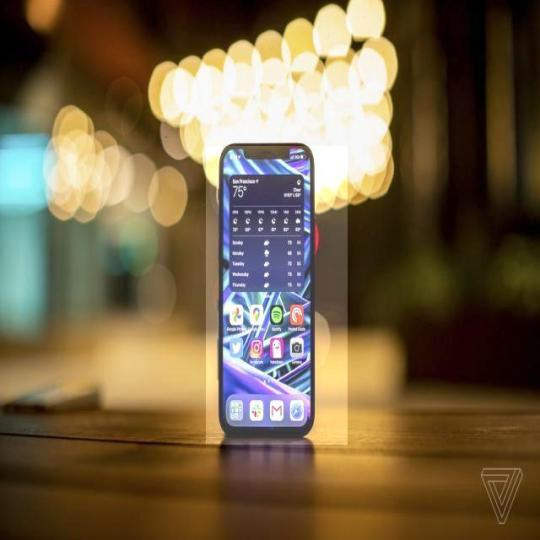phone: (222, 142, 316, 439)
